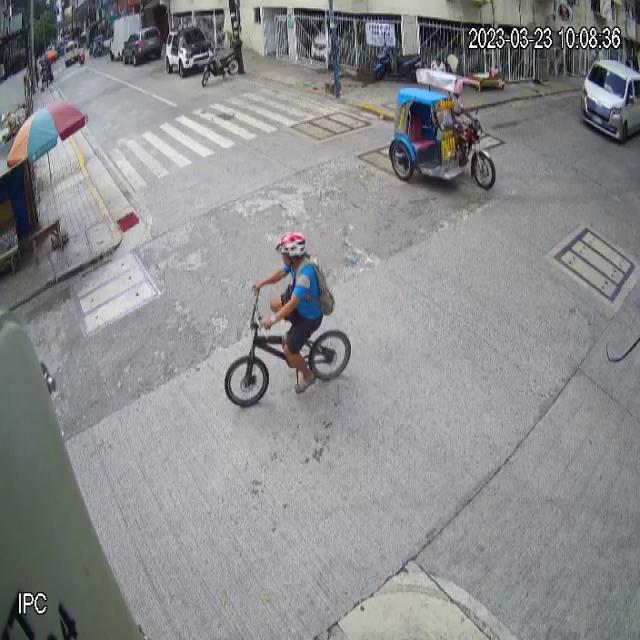Tricycle: (389, 65, 496, 191)
Van: (581, 59, 640, 142)
